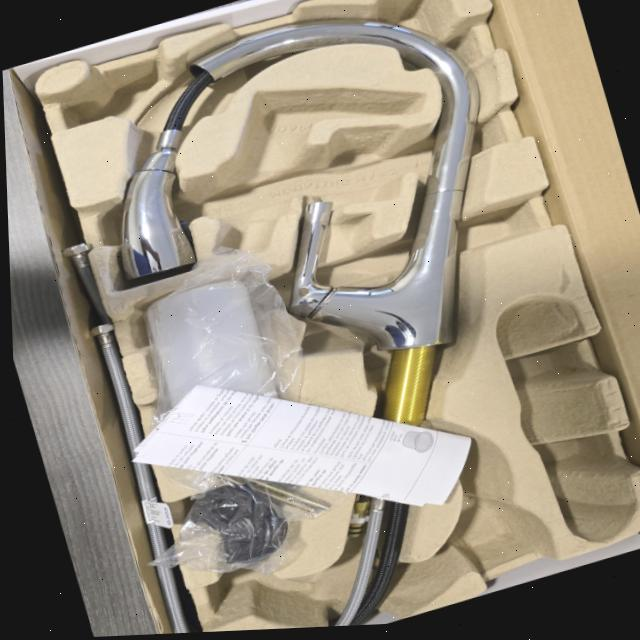1o: (121, 18, 483, 626)
2m: (212, 88, 423, 255)
3o: (138, 278, 287, 471)
4m: (495, 294, 635, 541)
5m: (460, 501, 536, 561)
6m: (207, 566, 311, 622)
7o: (149, 462, 351, 569)
8: (126, 384, 475, 506)
